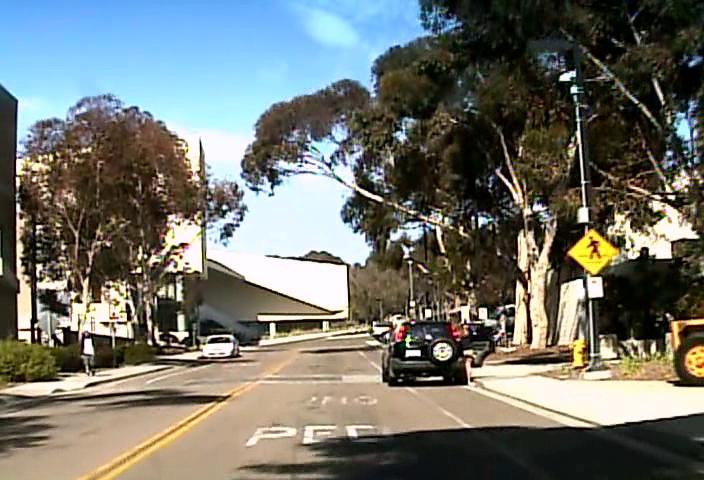pedestrianCrossing: (567, 228, 617, 275)
